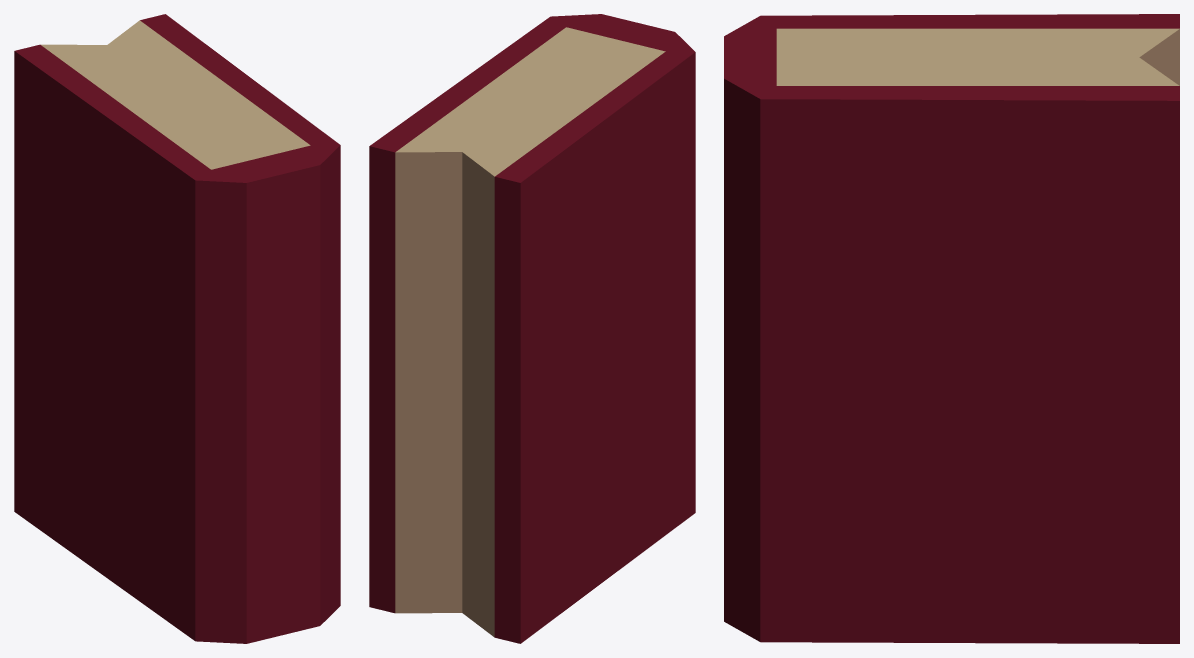
File: TB_D_Prop_Book_B.FBX
3 views of the same model, side by side, from view 1: azimuth 30°, elevation 25°; view 2: azimuth 150°, elevation 25°; view 3: azimuth 270°, elevation 25° (orthographic). The views are drawn at different scales.
Parts seen in each view (by area): view 1: TB_D_Prop_Book_B; view 2: TB_D_Prop_Book_B; view 3: TB_D_Prop_Book_B.
Part boxes in pixels (box(x1,y1,x2,y2)): TB_D_Prop_Book_B: box(14, 14, 340, 643); TB_D_Prop_Book_B: box(369, 14, 695, 643); TB_D_Prop_Book_B: box(724, 14, 1179, 643).
Size of the model in its own units: 0.2401 by 0.6998 by 0.5323.
